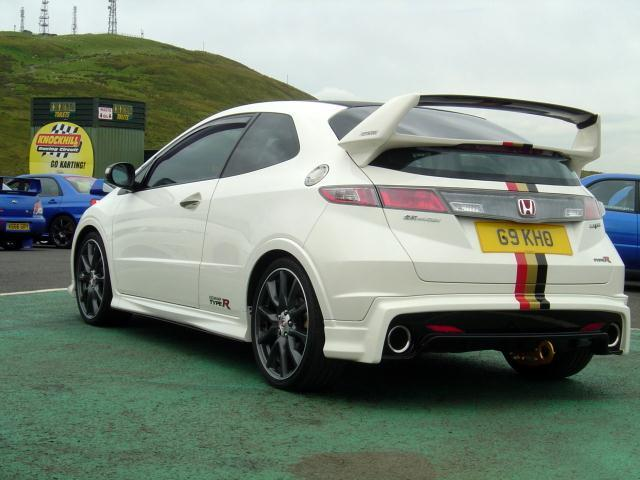bienso: (472, 220, 578, 257)
